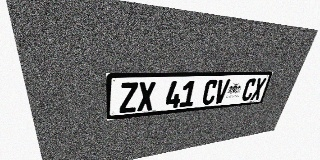1: (179, 80, 197, 107)
4: (165, 81, 183, 109)
C: (201, 80, 219, 105), (240, 78, 257, 101)
V: (213, 79, 230, 104)
X: (137, 82, 156, 112), (250, 78, 267, 100)
Z: (119, 82, 138, 113)
